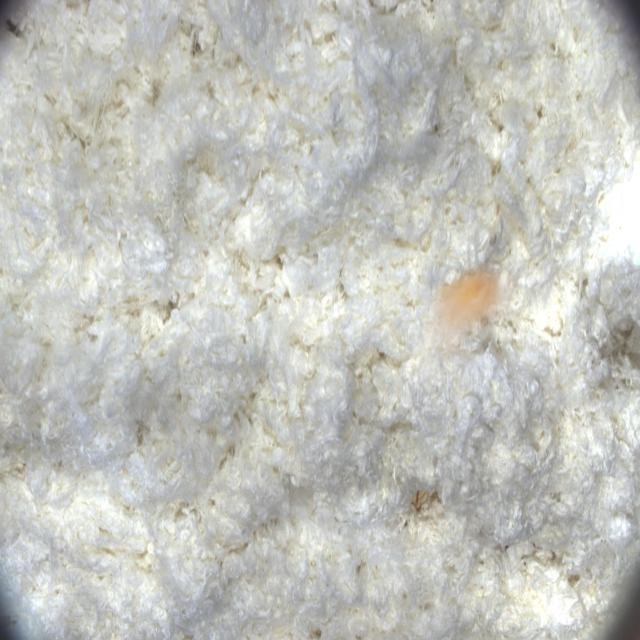dust: (417, 261, 521, 384)
